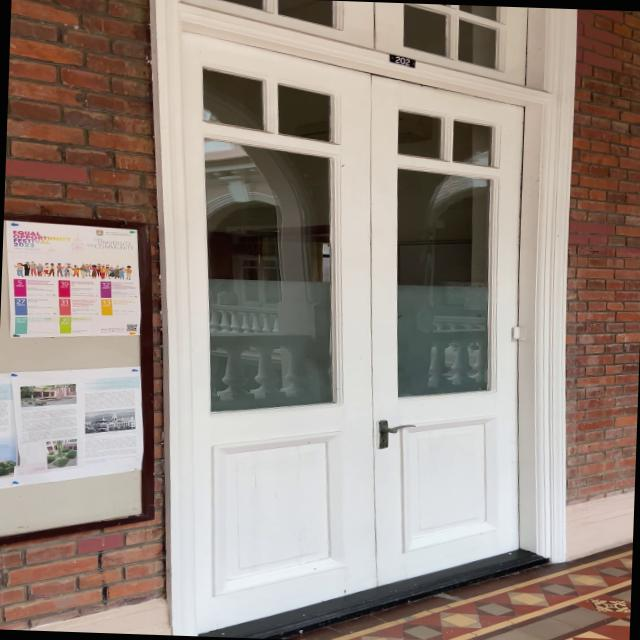room202: (386, 50, 416, 68)
